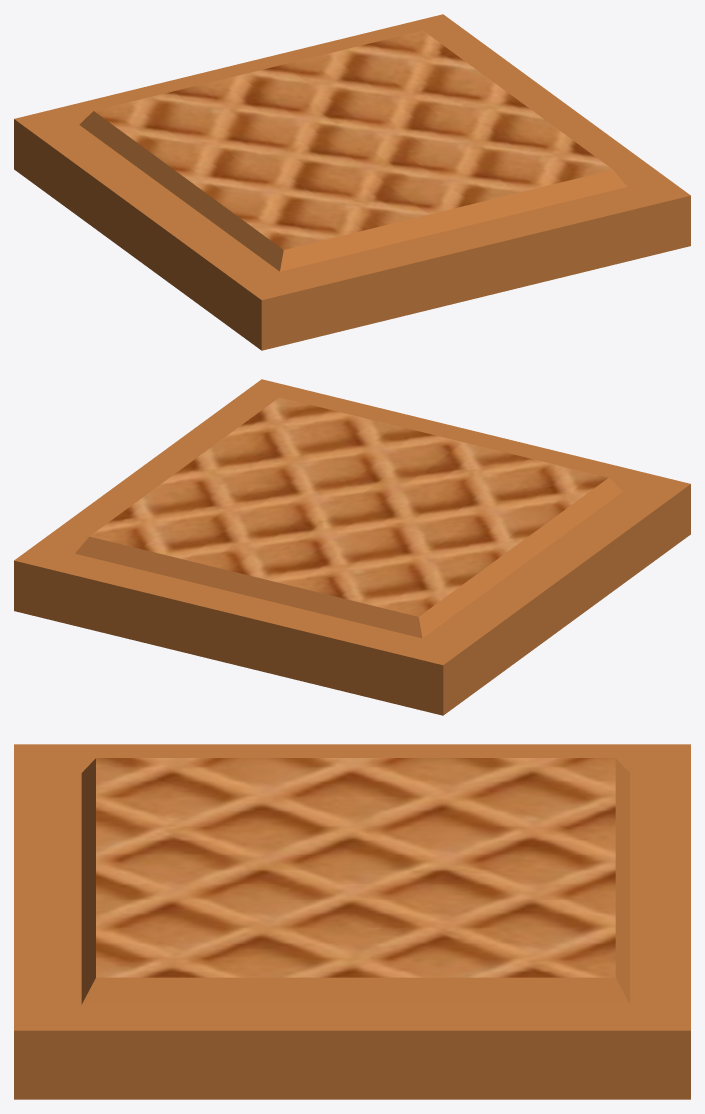
The model's file is Herpo.fbx.
3 renders of one model, top to bottom at view 1: azimuth 30°, elevation 25°; view 2: azimuth 150°, elevation 25°; view 3: azimuth 270°, elevation 25°, orthographic. The views are drawn at different scales.
Parts seen in each view (by area): view 1: pCube20; view 2: pCube20; view 3: pCube20.
Boxes of the visible parts, <box> form: pCube20: <box>14,14,690,350</box>; pCube20: <box>14,379,690,715</box>; pCube20: <box>14,744,690,1099</box>.
Size of the model in its own units: 258 by 37.92 by 258.
Materials: 1 (1 with a texture image).
